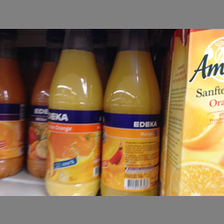juice: (102, 29, 162, 195), (47, 28, 102, 194)
